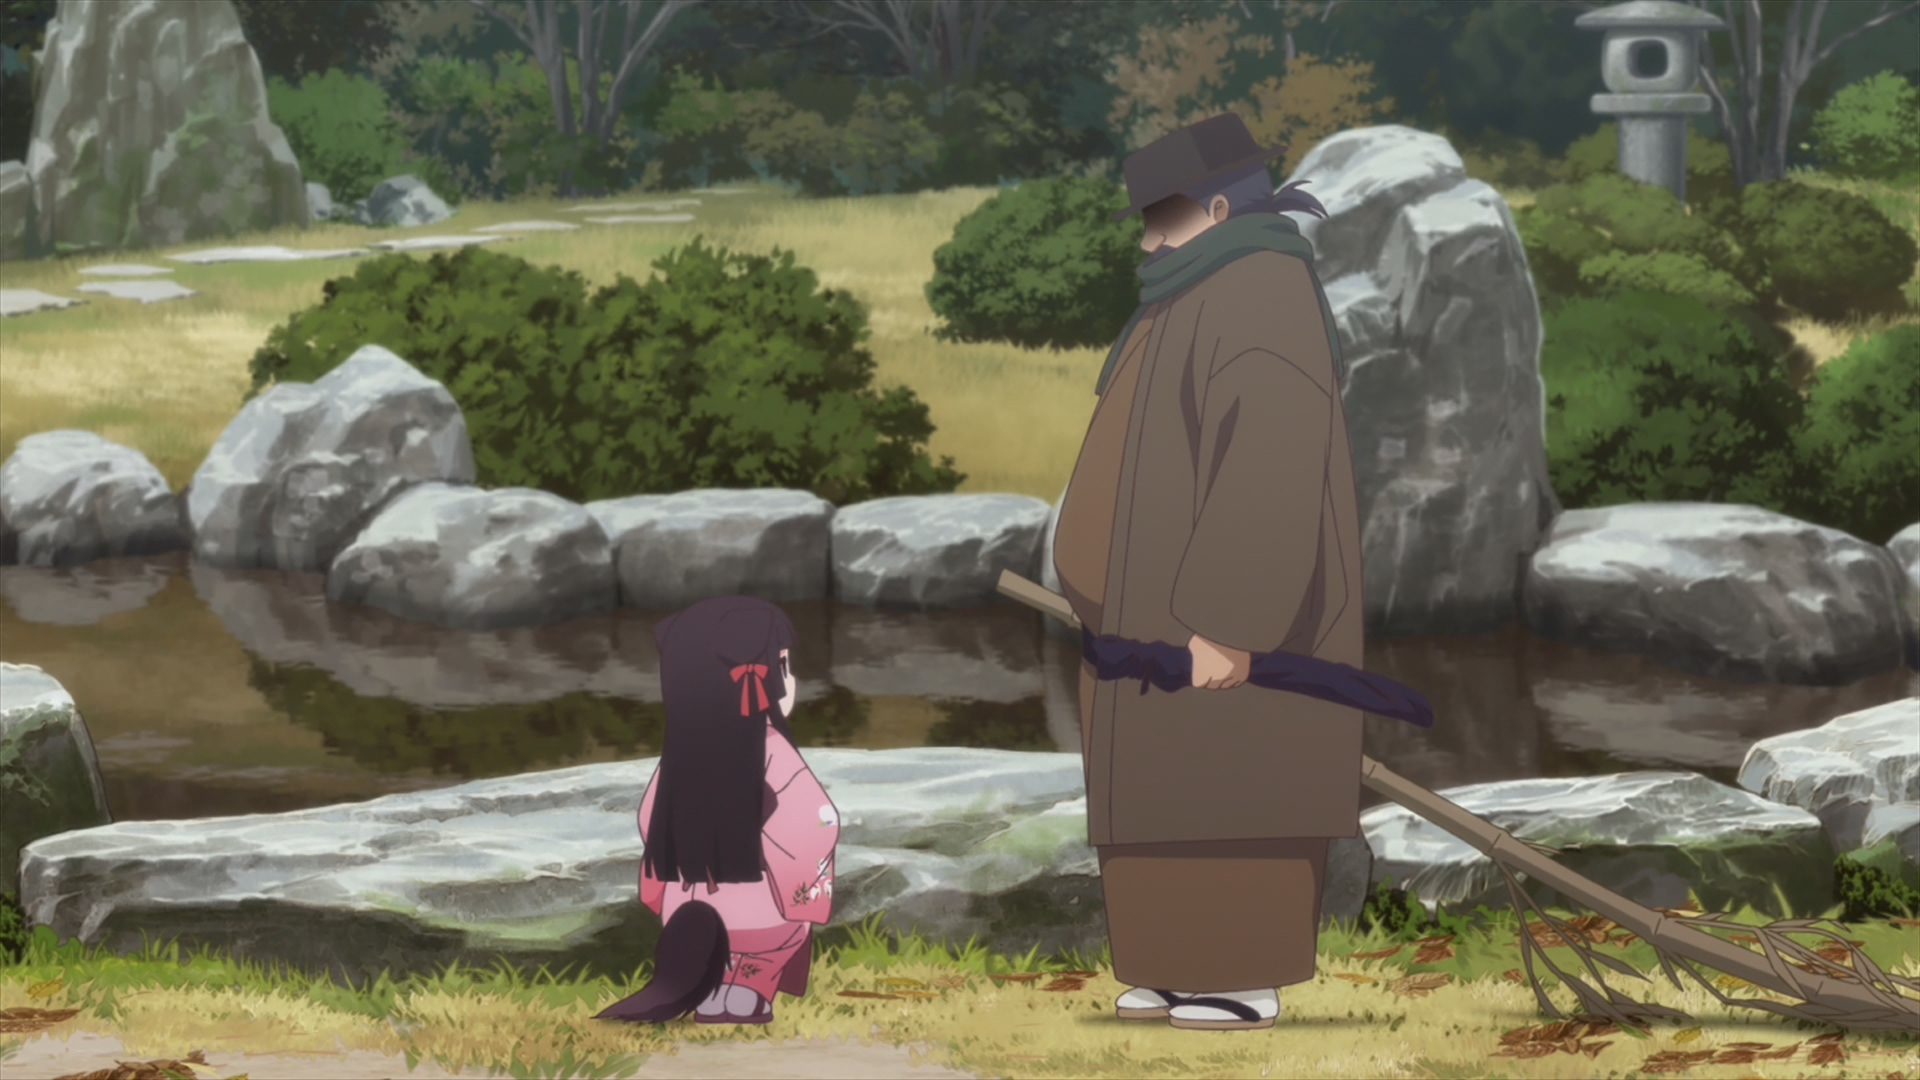其他: (1052, 116, 1365, 1033)
樱: (593, 593, 841, 1027)
